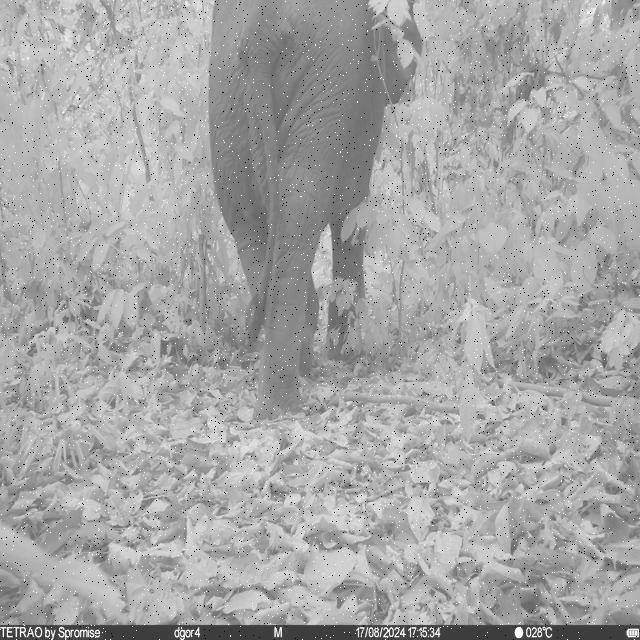ear: (371, 0, 423, 112)
elephant: (210, 0, 423, 420)
